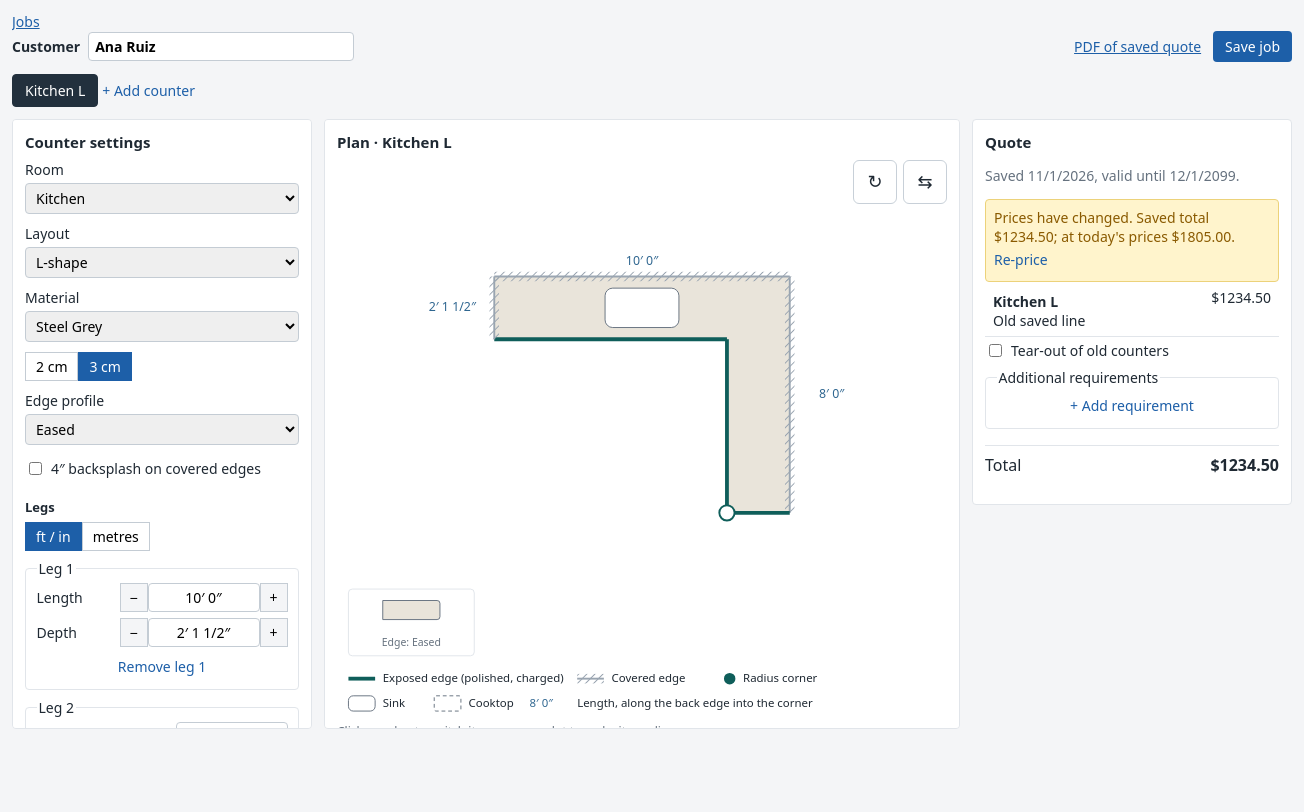
a reopened job › switches to today’s prices on Re-price, which is an unsaved change
Click the button "Re-price".
click(1021, 260)  # box [994,246,1048,273]
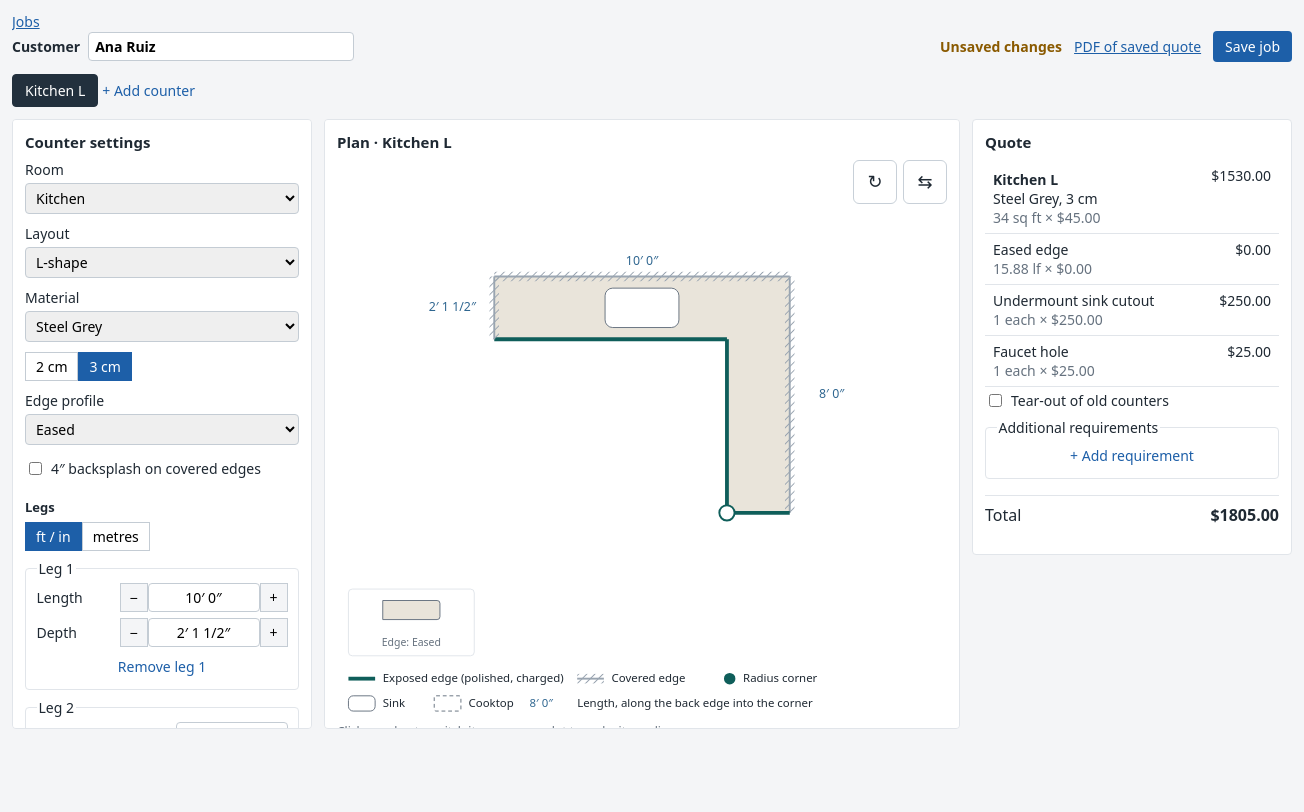
Result: the text "Old saved line" is gone
Result: the text "Prices have changed" is gone
Result: the text "Unsaved changes" is shown at [940,37,1062,56]
